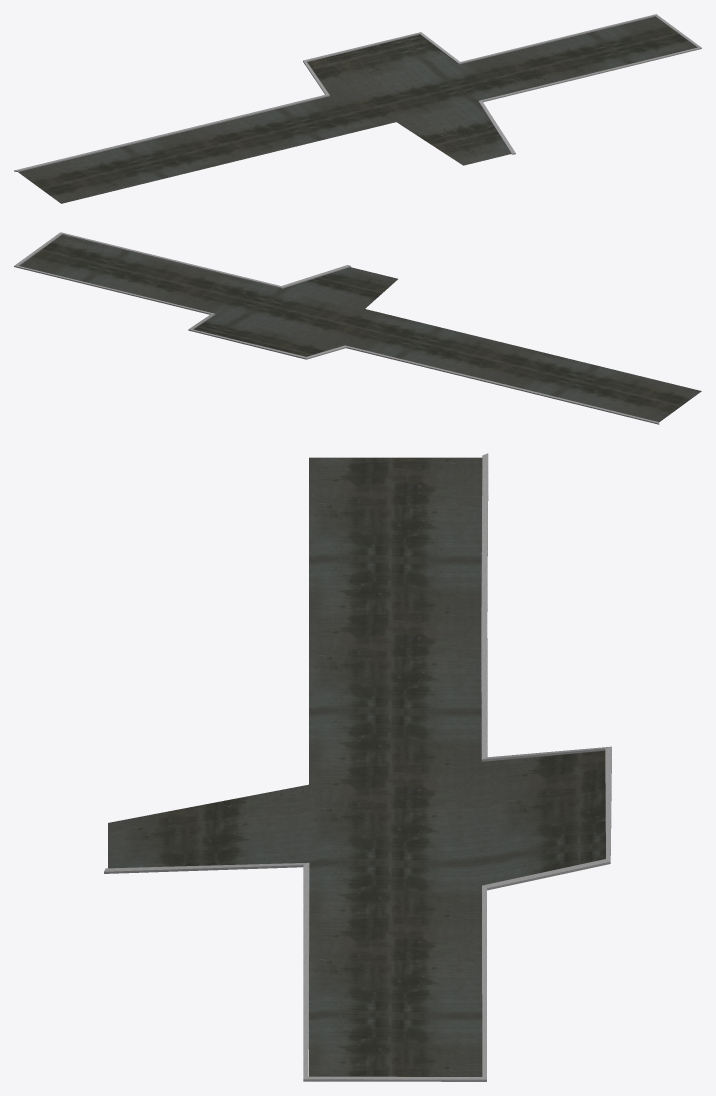
The model's file is asphalt.FBX.
3 views of the same model, one above another, from view 1: azimuth 30°, elevation 25°; view 2: azimuth 150°, elevation 25°; view 3: azimuth 270°, elevation 25° (orthographic). The views are drawn at different scales.
Parts seen in each view (by area): view 1: Plane001; view 2: Plane001; view 3: Plane001.
Boxes of the visible parts, x1,y1,x2,y2 form: Plane001: [14, 14, 701, 203]; Plane001: [14, 232, 701, 424]; Plane001: [104, 453, 611, 1081].
Bounding box in the file's own units: 12150 × 393 × 4165.
2 materials, 2 textured.
